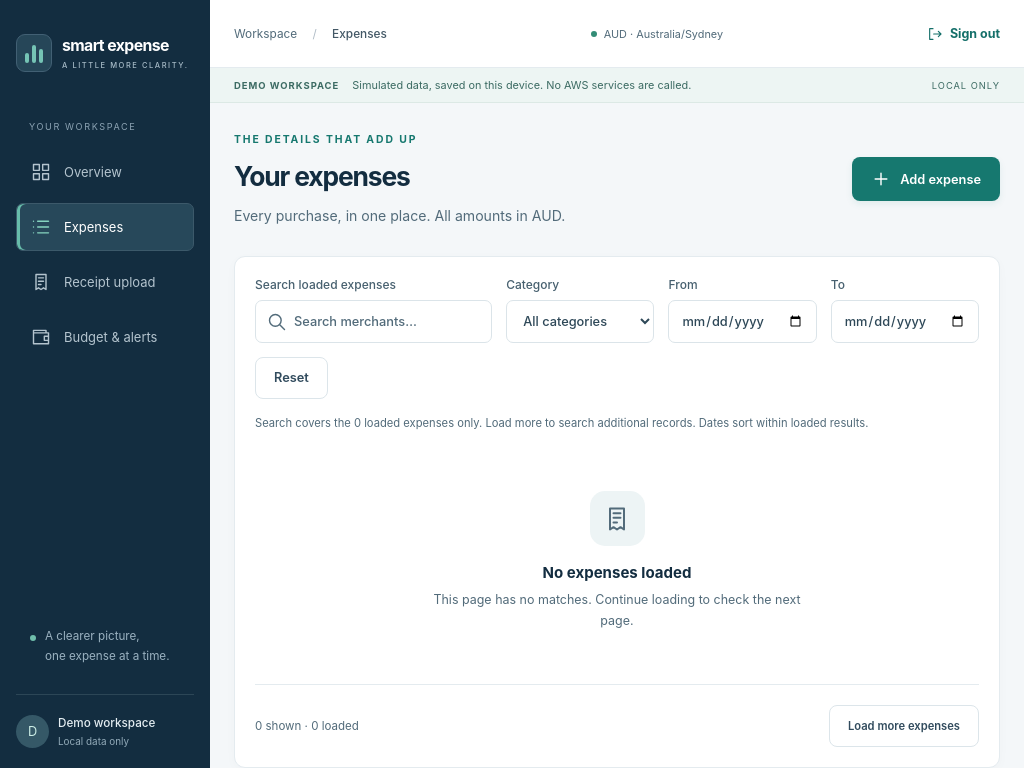
Test case: expense interactions › supports an empty page that still has a cursor
The width and height of the screenshot is (1024, 768).
Click the button "Load more expenses": (904, 726) [829, 705, 979, 747]
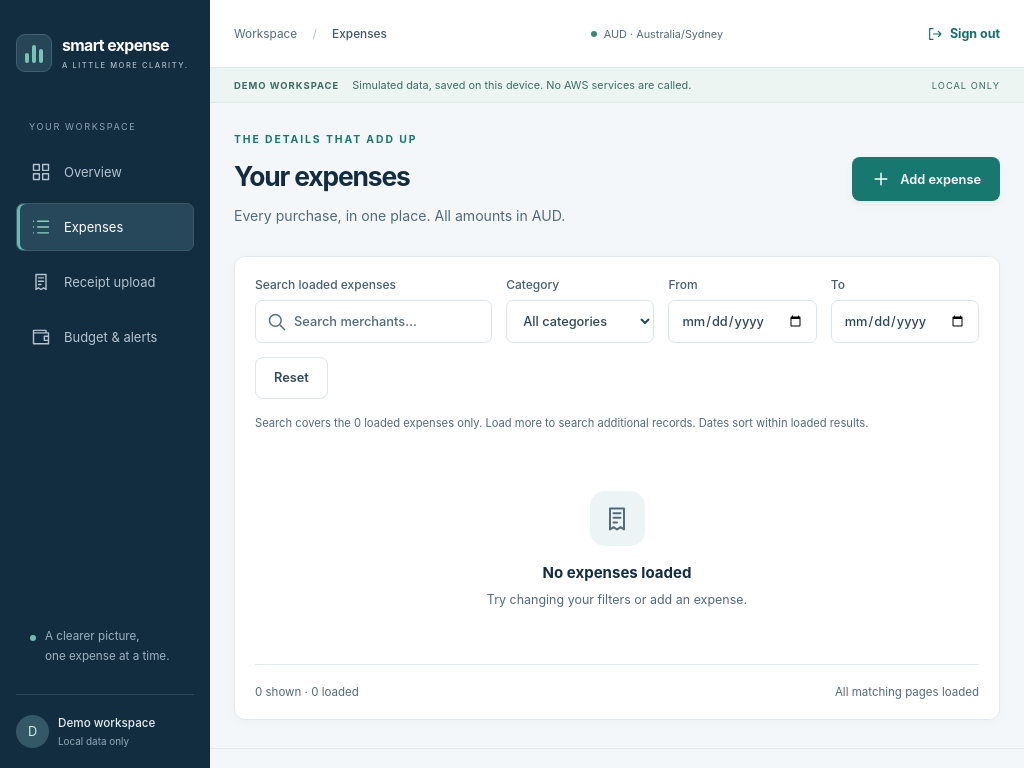
Check: the button "Load more expenses" is gone
